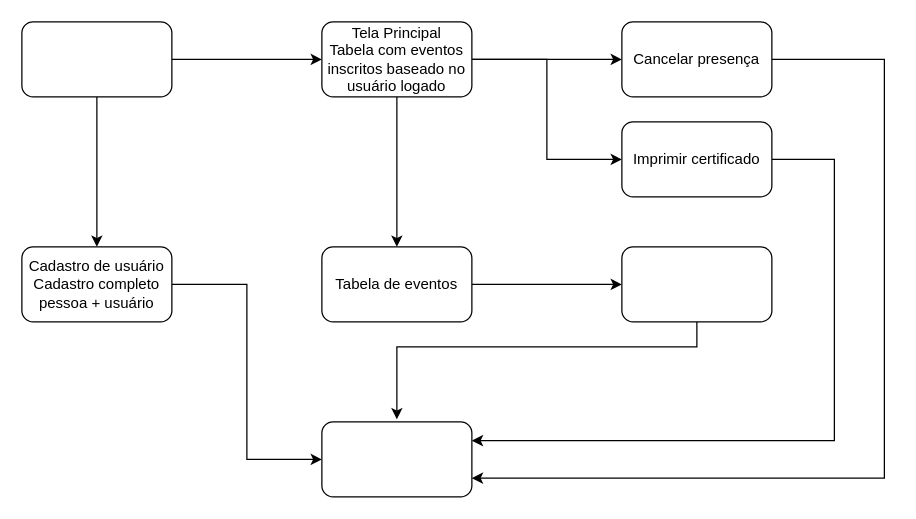
The diagram is 916 pixels wide and 519 high, and some of its shapes have lost their labels. Each missing label, with the box of its shape:
E-mail: (321, 421, 472, 497)
Inscrever-se em evento: (621, 246, 772, 322)
Tela de Login: (21, 21, 172, 97)
